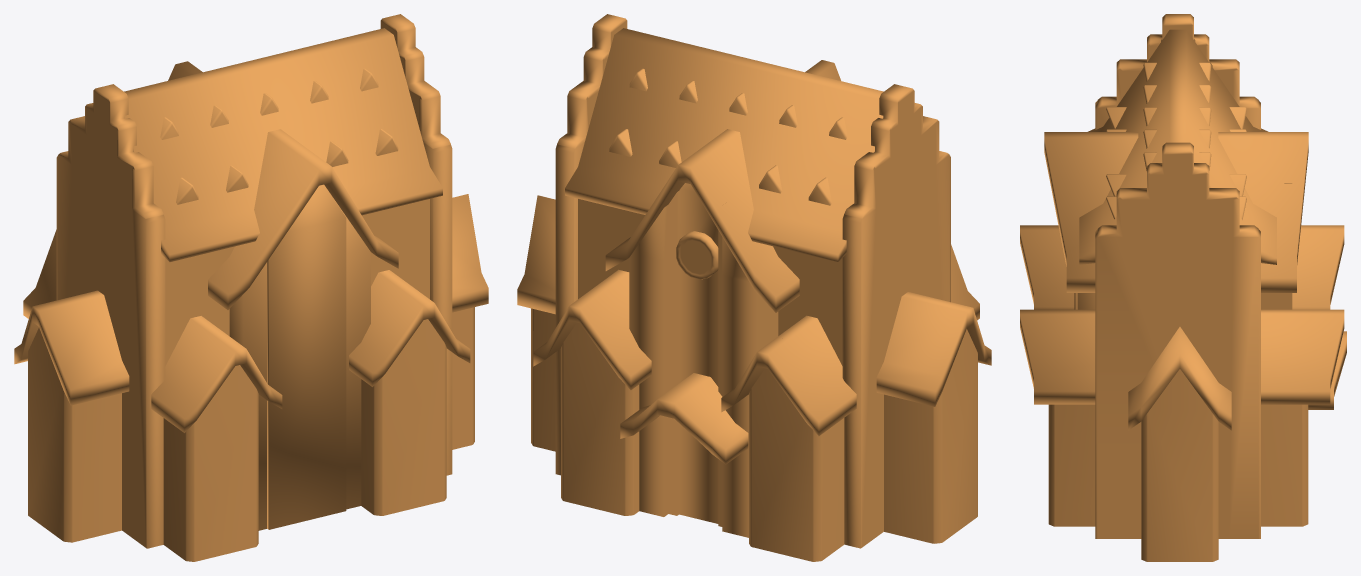
File: castle_gbread.fbx
3 renders of one model, left to right at view 1: azimuth 30°, elevation 25°; view 2: azimuth 150°, elevation 25°; view 3: azimuth 270°, elevation 25°, orthographic. The views are drawn at different scales.
Visible parts, largest first — view 1: castle_gbread; view 2: castle_gbread; view 3: castle_gbread.
Boxes of the visible parts, left/top/right/bottom form: castle_gbread: left=14, top=14, right=488, bottom=561; castle_gbread: left=517, top=14, right=991, bottom=561; castle_gbread: left=1020, top=14, right=1346, bottom=561.
Bounding box in the file's own units: 5626 × 5248 × 4005.
